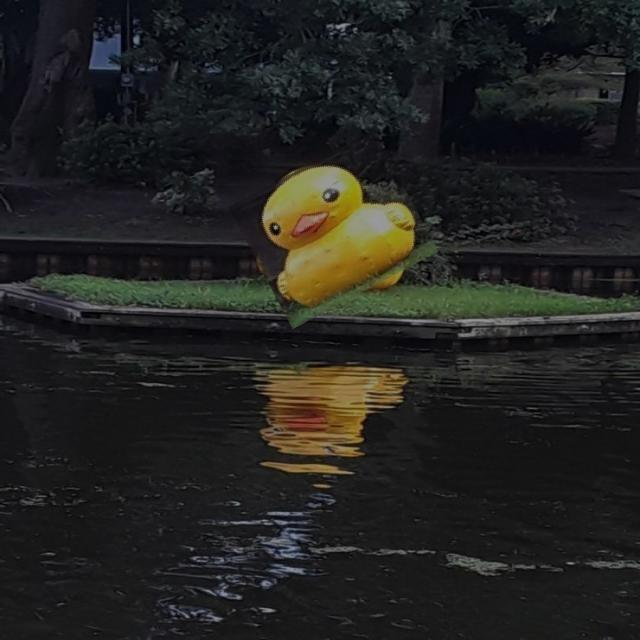rubber-duck: (261, 165, 434, 326)
